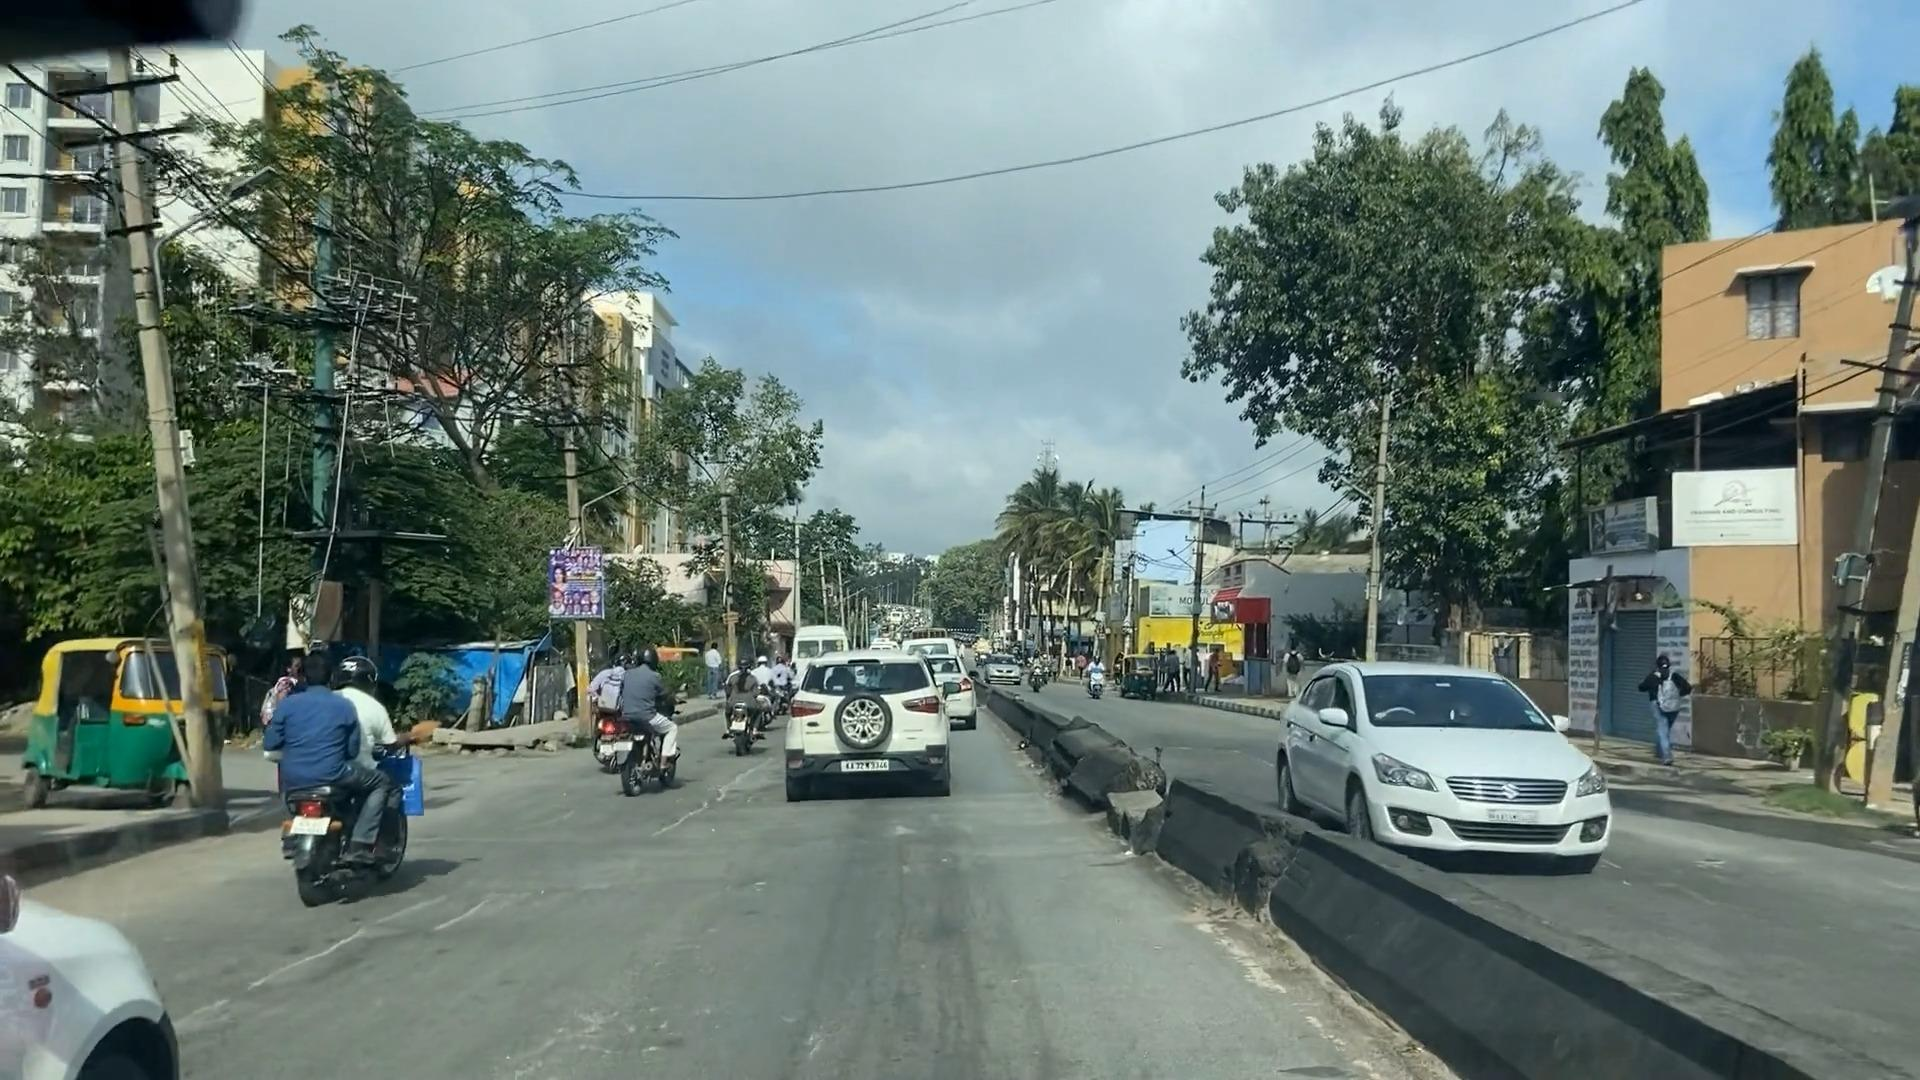LMV: (28, 630, 210, 810), (276, 653, 410, 873), (783, 662, 944, 806), (615, 645, 683, 791)
RoadDamages: (256, 886, 485, 1022), (661, 765, 762, 832)
